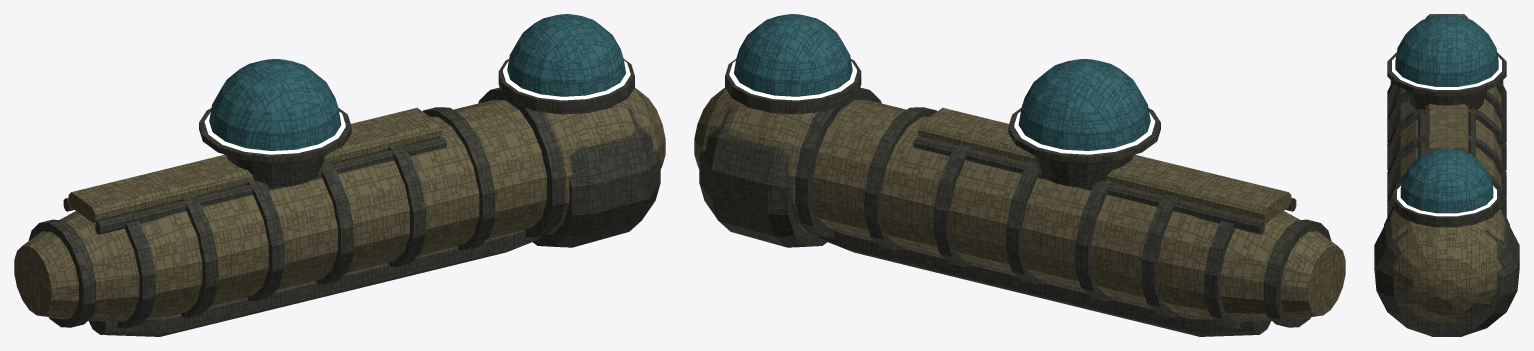
Rendered from water_lod2.glb.
The picture shows the model from 3 angles, left to right: view 1: azimuth 30°, elevation 25°; view 2: azimuth 150°, elevation 25°; view 3: azimuth 270°, elevation 25°; orthographic projection. The views are drawn at different scales.
Visible parts, largest first — view 1: water_lod2_body, water_lod2_glow; view 2: water_lod2_body, water_lod2_glow; view 3: water_lod2_body, water_lod2_glow.
Boxes of the visible parts, left/top/right/bottom form: water_lod2_body: left=14, top=14, right=665, bottom=336; water_lod2_glow: left=204, top=61, right=630, bottom=154; water_lod2_body: left=694, top=14, right=1345, bottom=336; water_lod2_glow: left=729, top=61, right=1155, bottom=154; water_lod2_body: left=1374, top=14, right=1519, bottom=336; water_lod2_glow: left=1392, top=57, right=1501, bottom=216.
Bounding box in the file's own units: 21.5 × 8 × 5.49.
2 materials, 1 textured.
